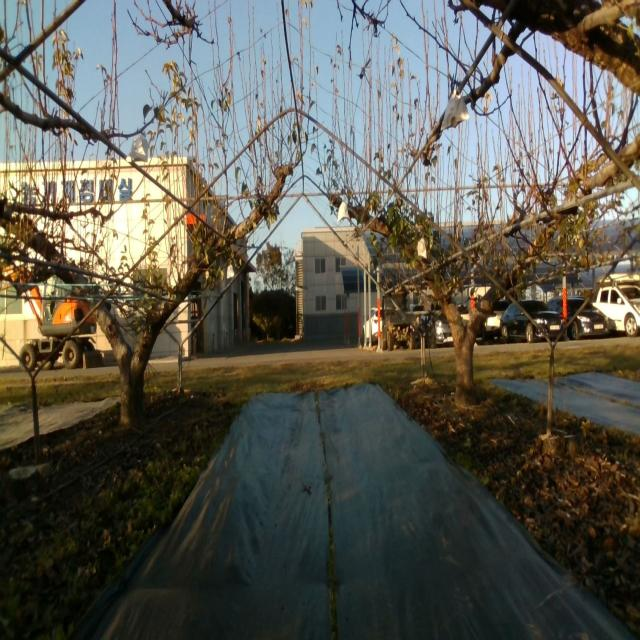pearbags: (440, 89, 470, 132), (125, 130, 149, 164), (337, 202, 351, 222), (418, 234, 428, 259)
